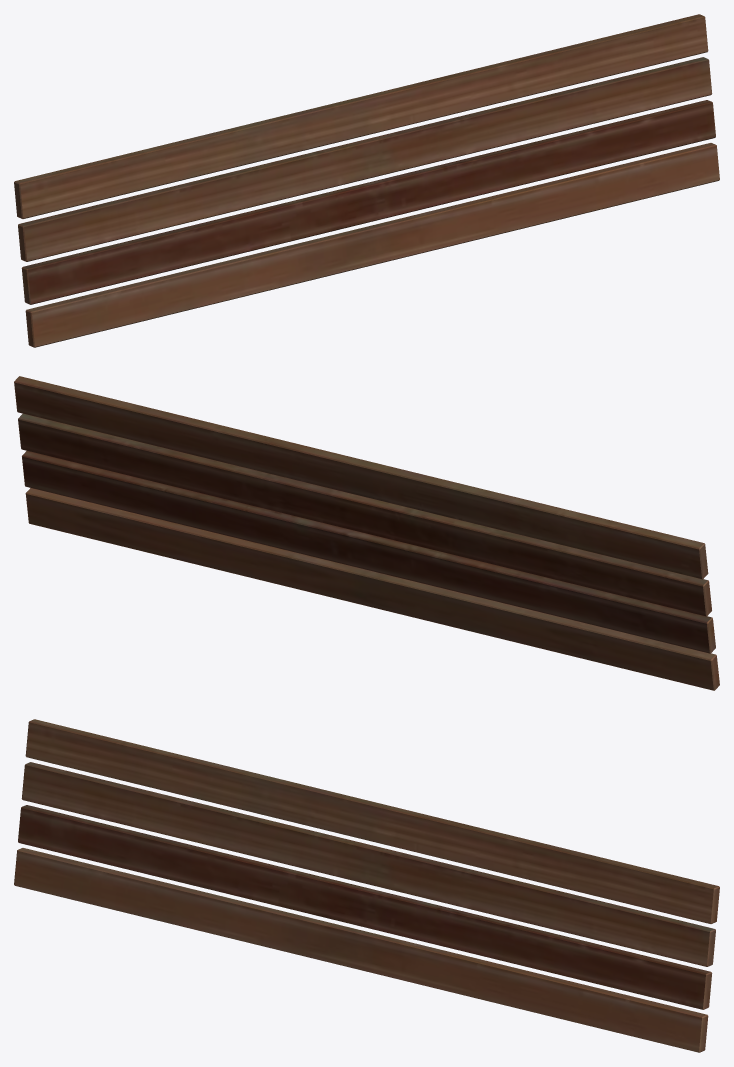
File: street-seating.glb
3 views of the same model, one above another, from view 1: azimuth 30°, elevation 25°; view 2: azimuth 150°, elevation 25°; view 3: azimuth 330°, elevation 25° (orthographic).
Parts seen in each view (by area): view 1: seat_back; view 2: seat_back; view 3: seat_back.
Boxes of the visible parts, x1=… form: seat_back: x1=14, y1=14, x2=719, y2=347; seat_back: x1=14, y1=376, x2=719, y2=690; seat_back: x1=14, y1=719, x2=719, y2=1052.
Size of the model in its own units: 2 by 0.4322 by 0.1039.
1 material, 1 textured.
